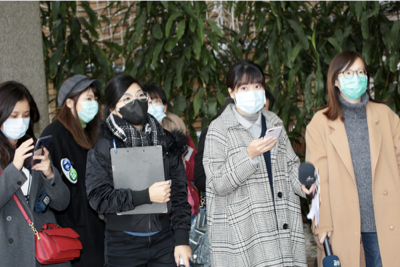with_mask: (234, 79, 266, 116), (119, 88, 149, 126), (338, 66, 368, 99), (2, 108, 31, 141), (77, 92, 100, 124), (146, 98, 166, 122)
